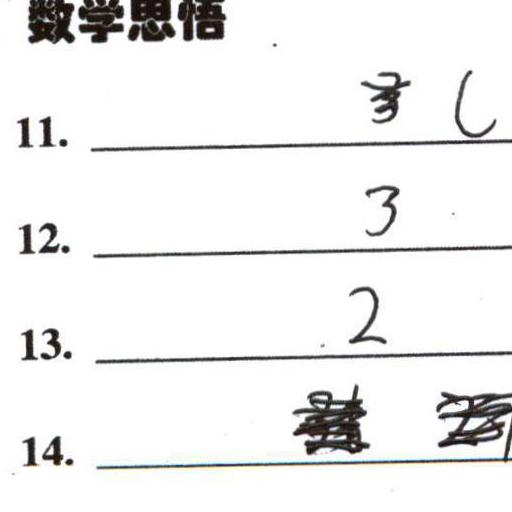ans: (448, 65, 499, 141), (345, 285, 389, 346), (361, 181, 401, 238)
